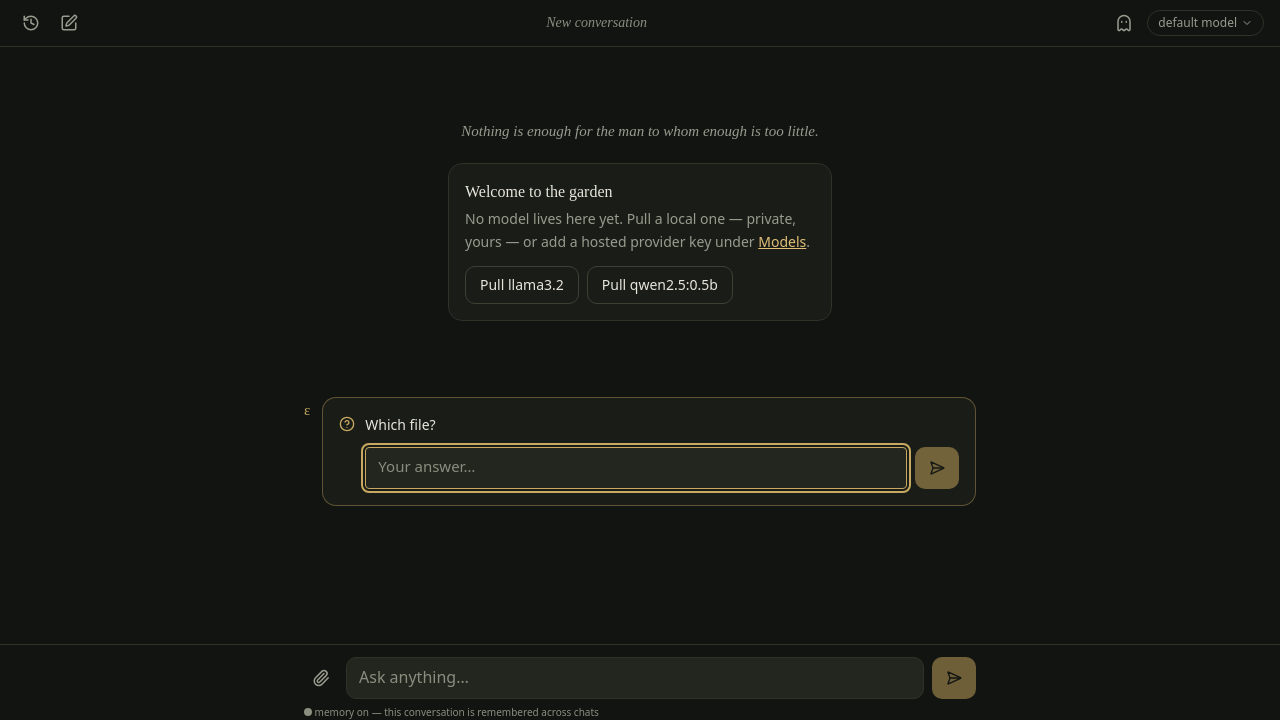
Test: AskUserPrompt — the ask_user clarifying prompt (#360) › keeps Send disabled until the answer has content
Expected: the button named "send answer" is disabled, [915, 447, 959, 489]
In the text box named "answer the assistant": (636, 468) [365, 447, 907, 489], type "x"
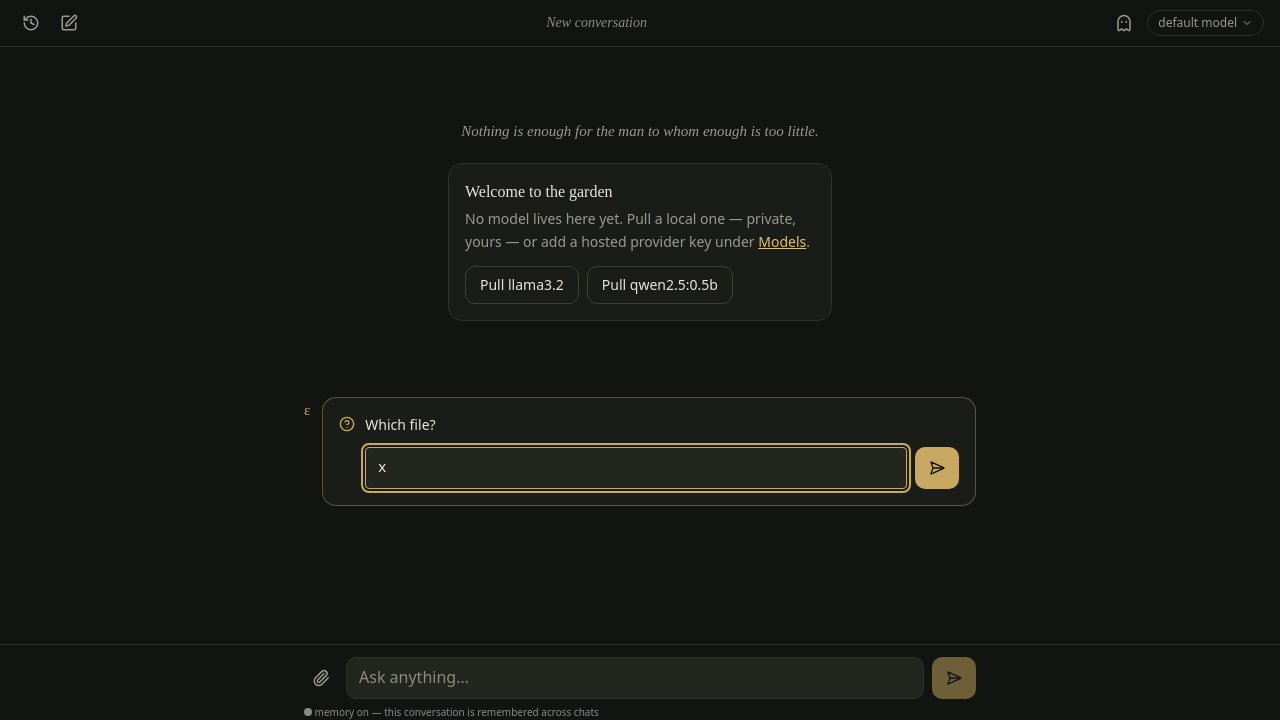
Expected: the button named "send answer" is enabled, [915, 447, 959, 489]
